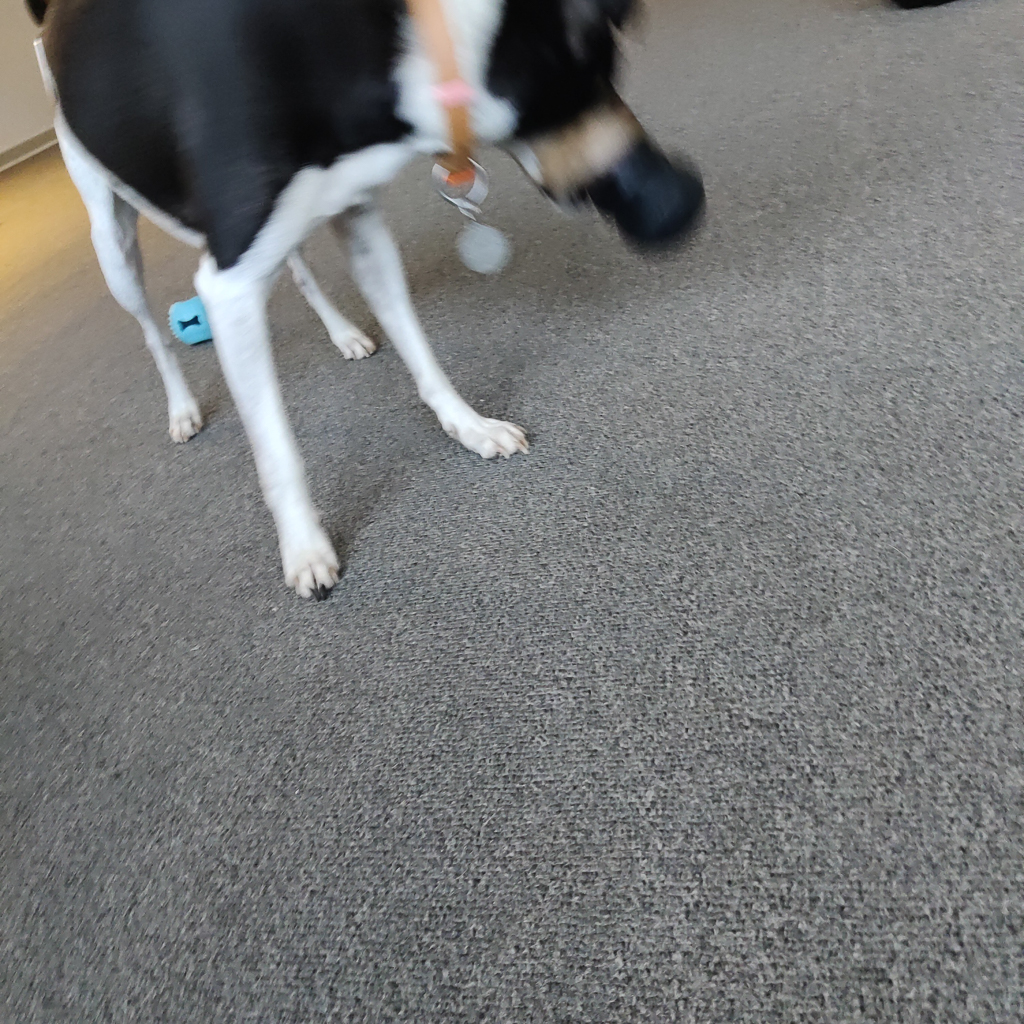Dog: (12, 0, 712, 610)
